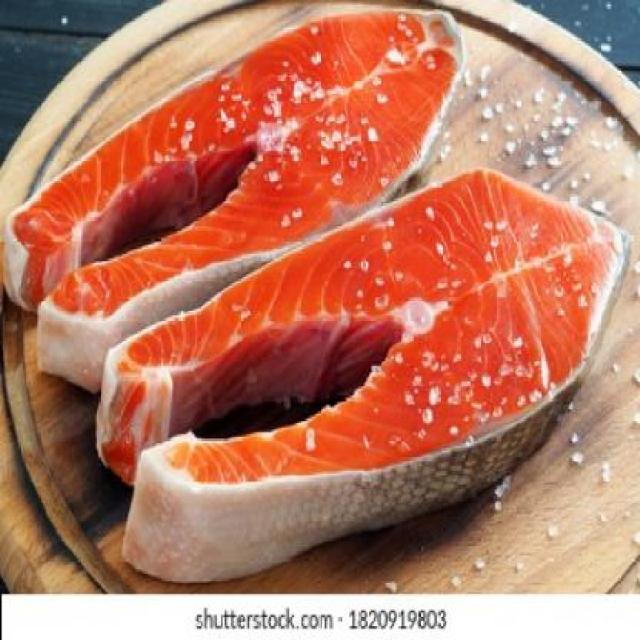salmon: (86, 168, 640, 584), (21, 14, 482, 393)
